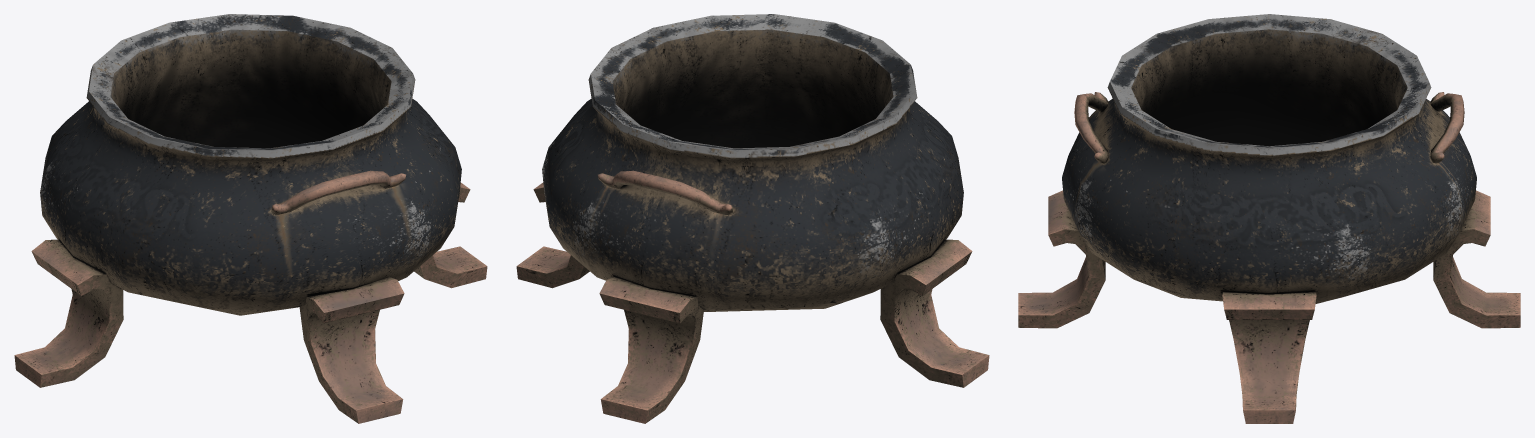
The model's file is fire_vase.FBX.
The picture shows the model from 3 angles, left to right: view 1: azimuth 30°, elevation 25°; view 2: azimuth 150°, elevation 25°; view 3: azimuth 270°, elevation 25°; orthographic projection. The views are drawn at different scales.
Parts seen in each view (by area): view 1: Line001, Object001, Line013; view 2: Line001, Object001, Line012; view 3: Line001, Object001, Line012, Line013.
Part boxes in pixels (<box>): Line001: <box>40,14,461,315</box>; Object001: <box>14,182,487,423</box>; Line013: <box>271,170,405,214</box>; Line001: <box>542,14,963,311</box>; Object001: <box>516,182,989,423</box>; Line012: <box>598,170,732,214</box>; Line001: <box>1062,14,1476,303</box>; Object001: <box>1018,190,1520,423</box>; Line012: <box>1430,92,1464,163</box>; Line013: <box>1074,92,1108,163</box>.
Bounding box in the file's own units: 106 × 54.97 × 106.
